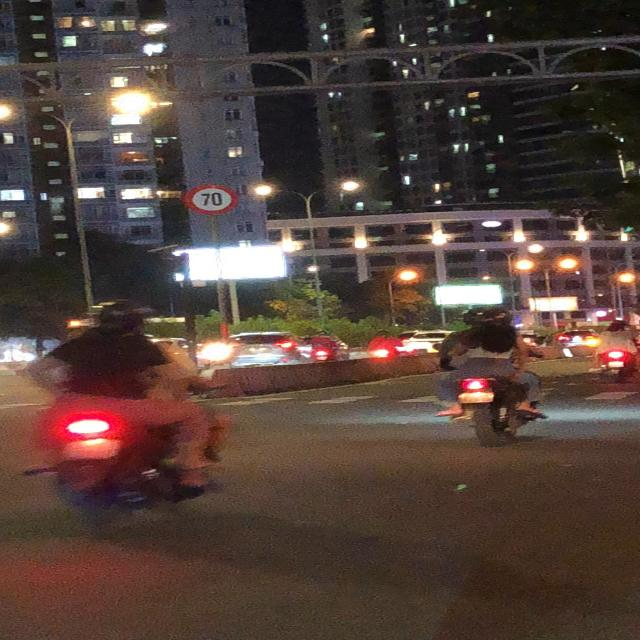Bien bao toc do toi da cho phep: (176, 177, 239, 216)
